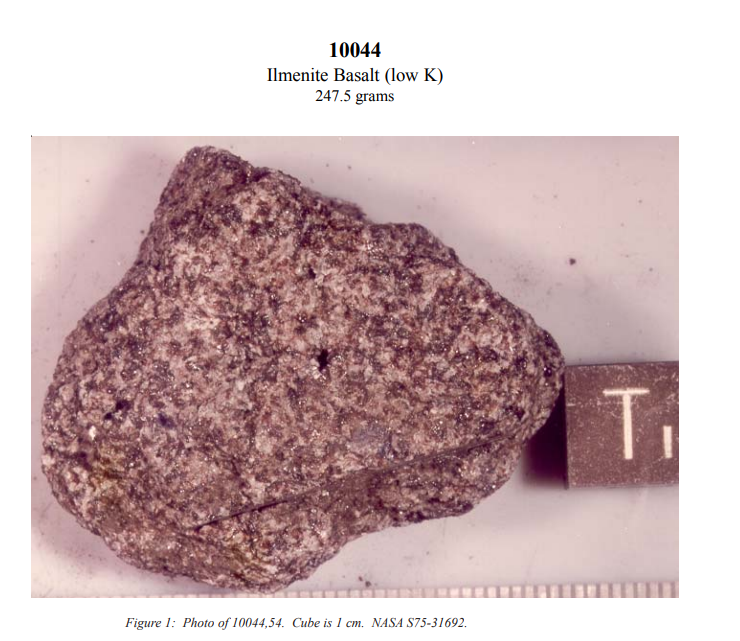Basalt: (27, 135, 564, 594)
